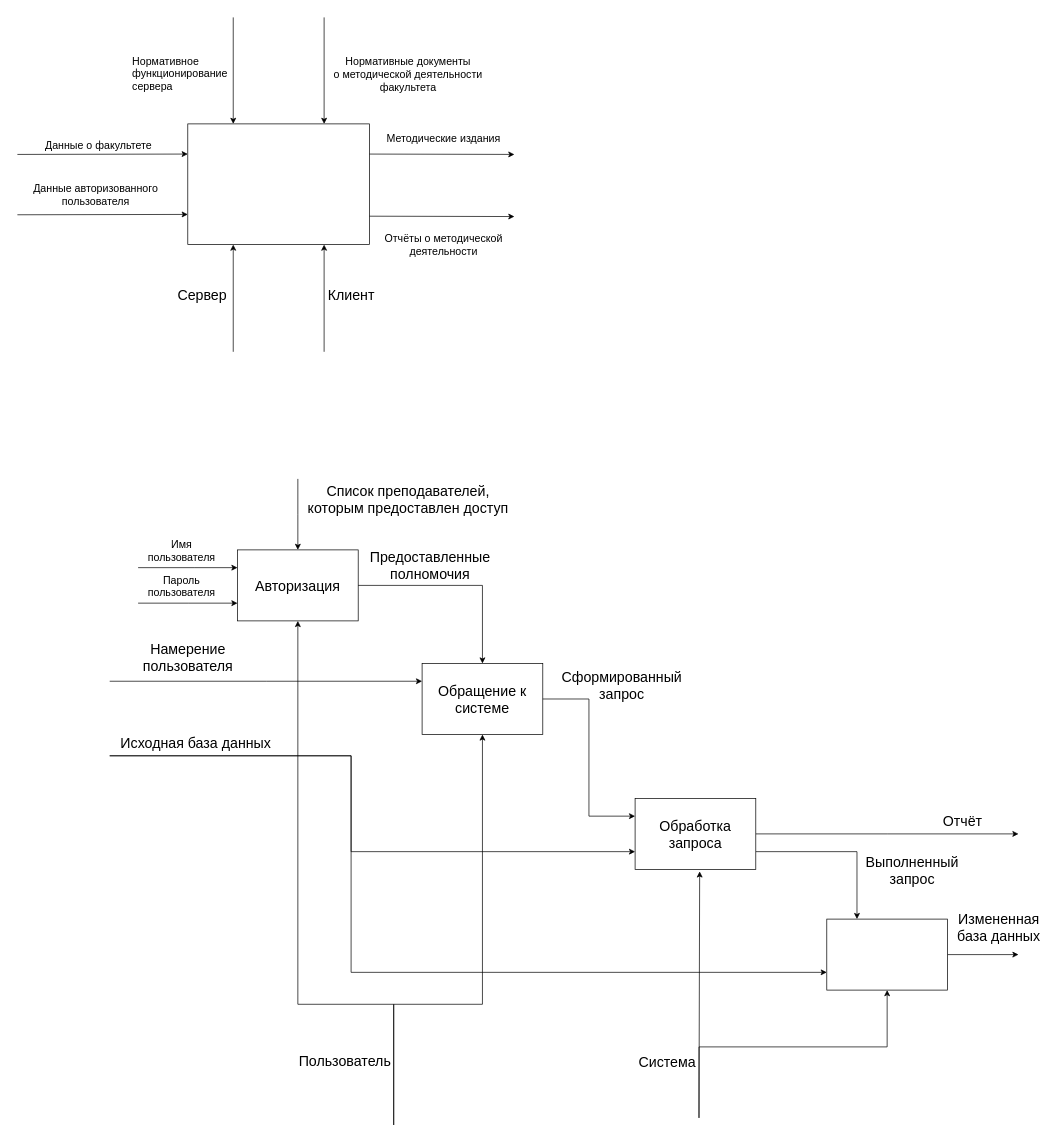
This 1052x1143 diagram has some shape labels left out. Each missing label, with the centre of its shape:
"Изменение базы данных" belongs at [886,954].
"Учёт методической деятельности физико-технического факультета" belongs at [278,184].
